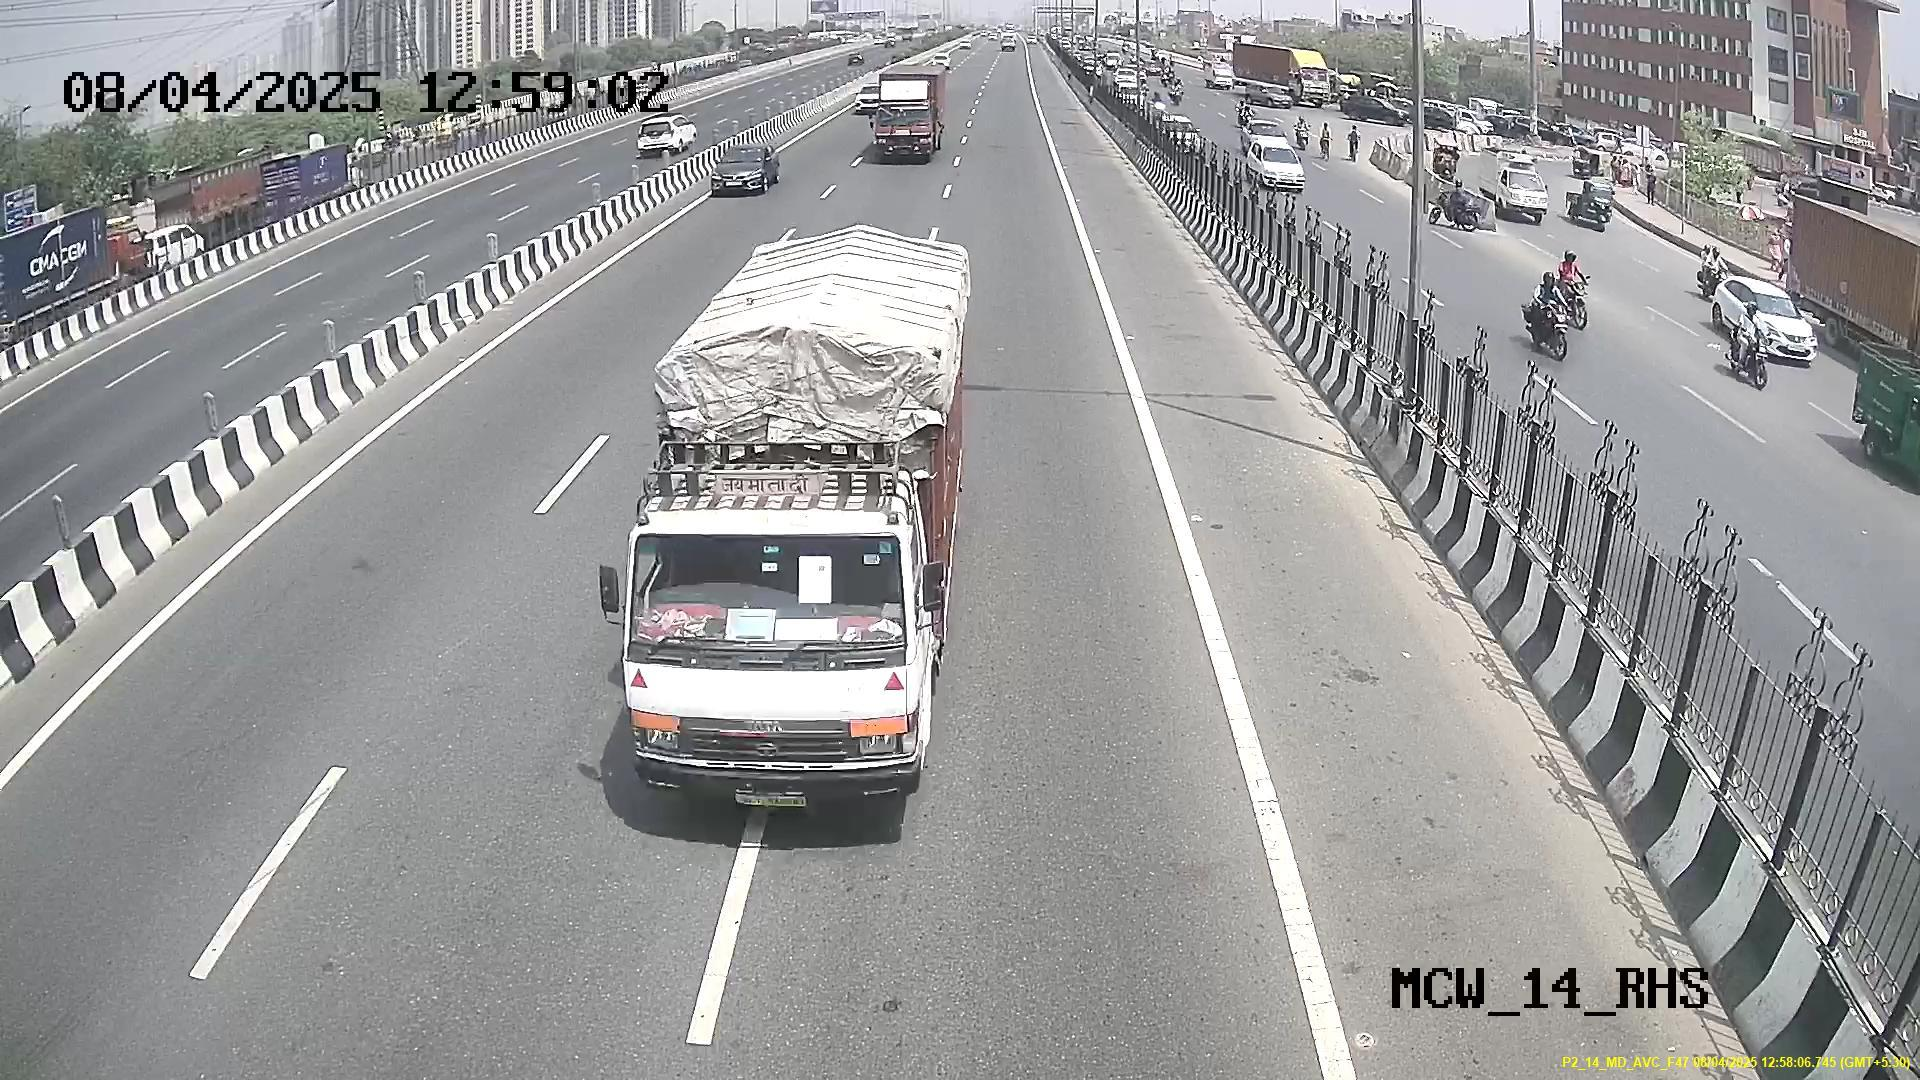car: (704, 145, 783, 199)
lcv: (620, 465, 943, 816), (866, 71, 947, 169)
